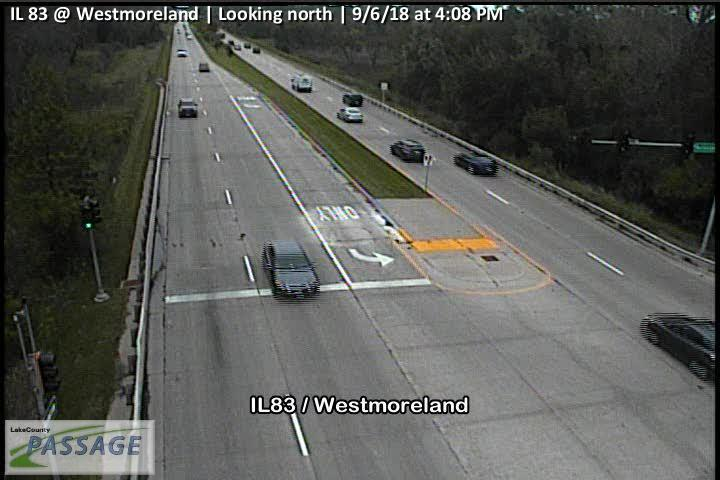SUV: (453, 150, 497, 177), (390, 137, 425, 164), (290, 72, 313, 92), (178, 97, 198, 117), (342, 92, 364, 105)
Sedan: (639, 309, 720, 382), (261, 238, 319, 302), (336, 106, 362, 122)
